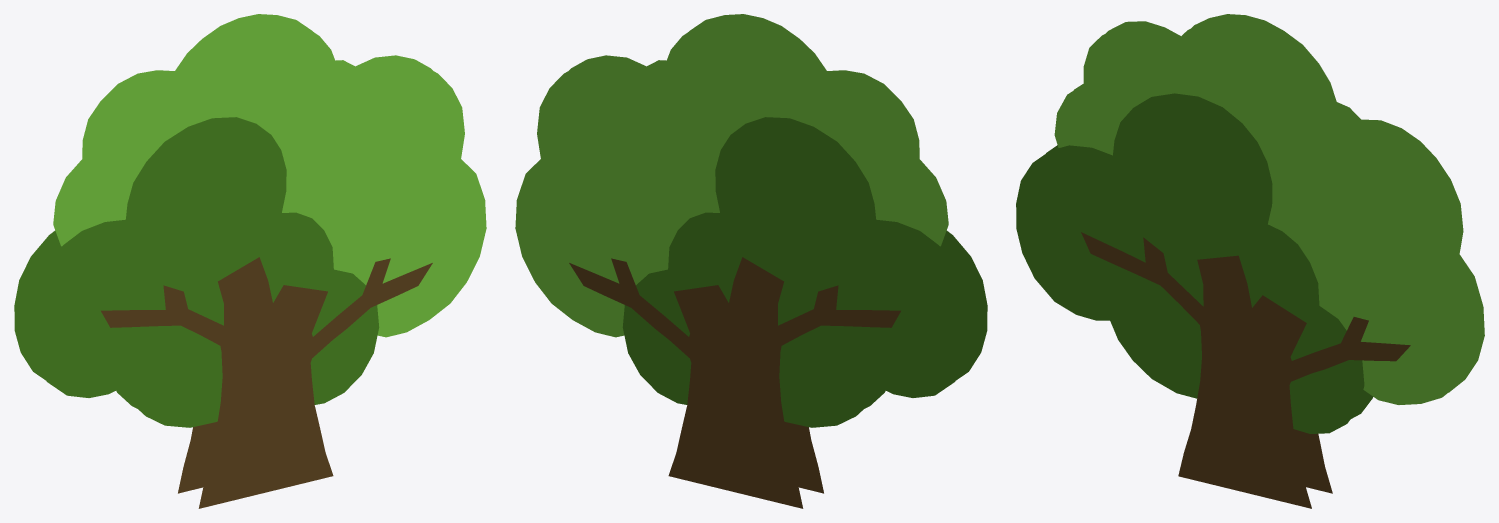
Rendered from woods2_01.fbx.
3 renders of one model, left to right at view 1: azimuth 30°, elevation 25°; view 2: azimuth 150°, elevation 25°; view 3: azimuth 330°, elevation 25°, orthographic.
Parts seen in each view (by area): view 1: grid41, grid37, grid36, grid42, grid43, grid44; view 2: grid42, grid43, grid44, grid41, grid37, grid36; view 3: grid41, grid37, grid36, grid42, grid44.
Part boxes in pixels (<box>): grid41: <box>60,19,486,337</box>; grid37: <box>28,117,379,427</box>; grid36: <box>101,257,432,508</box>; grid42: <box>53,14,432,246</box>; grid43: <box>14,230,137,408</box>; grid44: <box>178,421,217,493</box>; grid42: <box>515,19,941,337</box>; grid43: <box>622,117,973,427</box>; grid44: <box>569,257,900,508</box>; grid41: <box>569,14,948,246</box>; grid37: <box>864,230,987,408</box>; grid36: <box>784,421,823,493</box>; grid41: <box>1054,19,1477,404</box>; grid37: <box>1016,93,1364,433</box>; grid36: <box>1081,232,1410,508</box>; grid42: <box>1074,14,1484,392</box>; grid44: <box>1293,429,1332,493</box>.
Size of the model in its own units: 382 by 370 by 30.
